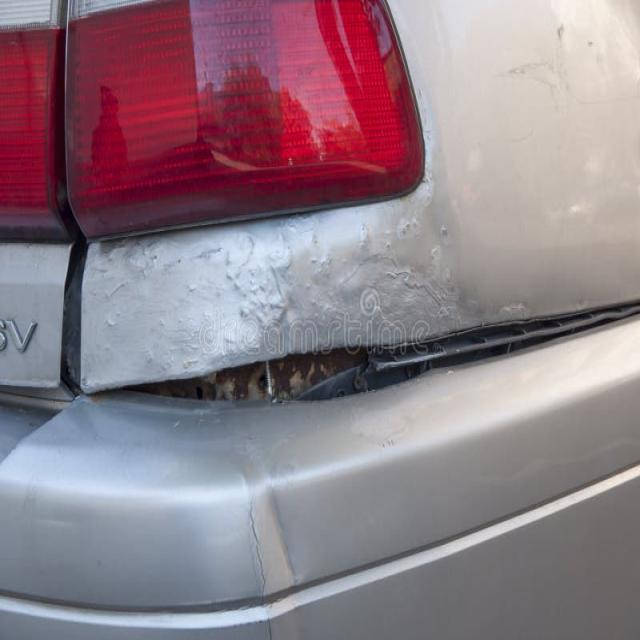misalignment: (101, 299, 640, 409)
scratch: (82, 79, 536, 383), (245, 483, 276, 640)
